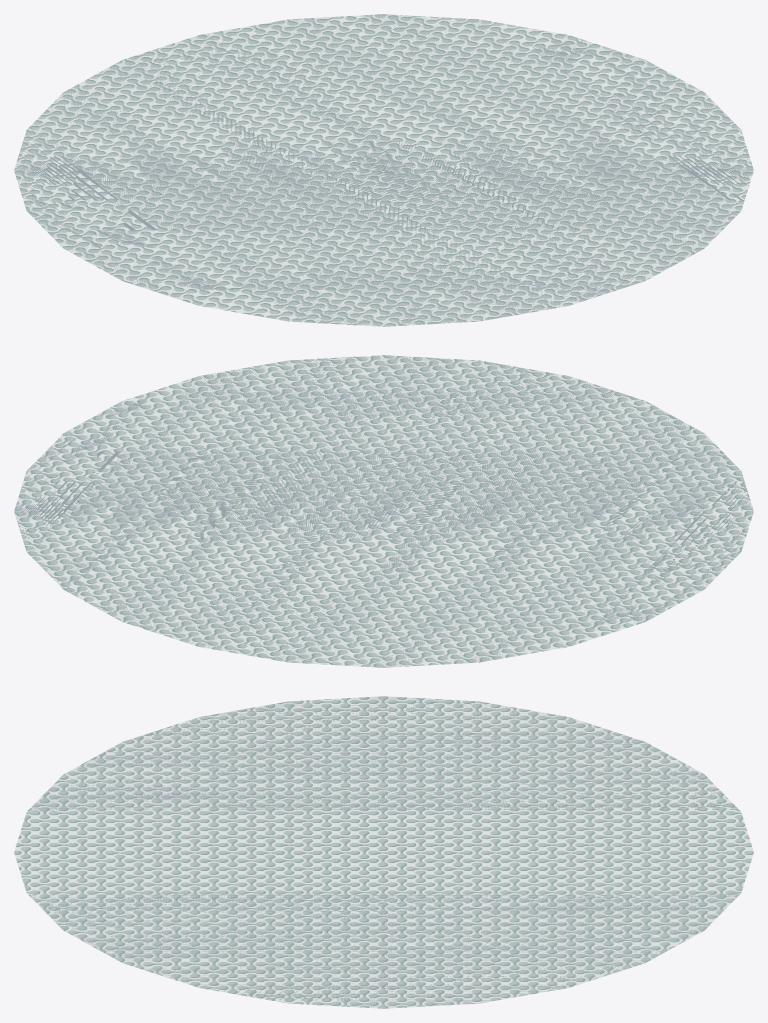
File: Carpet.dae
3 views of the same model, one above another, from view 1: azimuth 30°, elevation 25°; view 2: azimuth 150°, elevation 25°; view 3: azimuth 270°, elevation 25° (orthographic).
Parts seen in each view (by area): view 1: SketchUp; view 2: SketchUp; view 3: SketchUp.
Boxes of the visible parts, x1=… form: SketchUp: x1=14, y1=14, x2=753, y2=326; SketchUp: x1=14, y1=355, x2=753, y2=667; SketchUp: x1=14, y1=696, x2=753, y2=1008.
Bounding box in the file's own units: 236 × 236 × 0.
